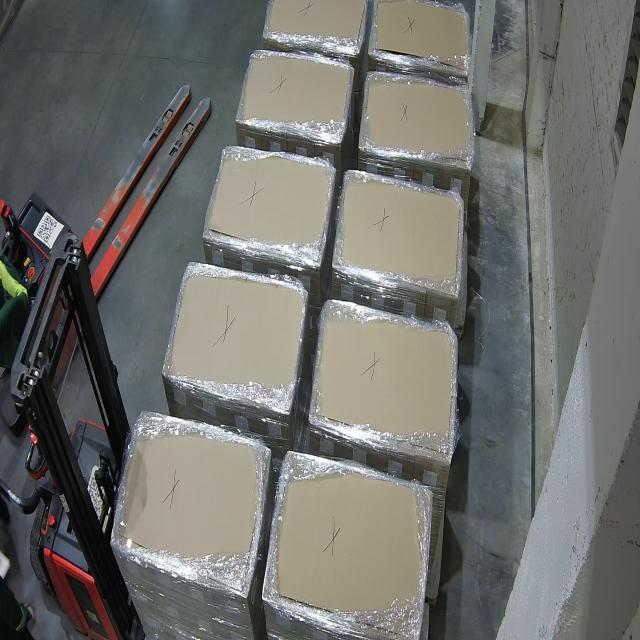pallet: (261, 450, 432, 640), (111, 413, 270, 598), (310, 298, 456, 457), (164, 262, 304, 411), (332, 170, 464, 300), (202, 144, 336, 268), (237, 49, 354, 142), (360, 72, 472, 164), (372, 0, 473, 76), (265, 0, 368, 51)
